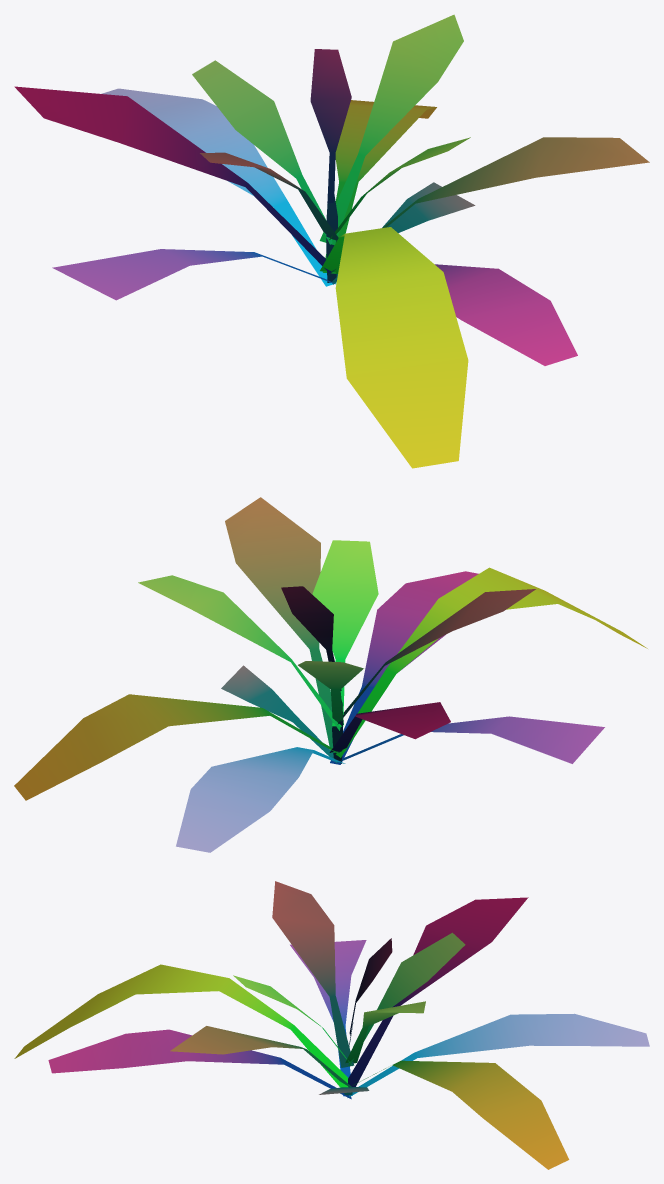
Rendered from Curbside_Weeds_ujzjfexja_Mid_ujzjfexja_VarI_LOD1.fbx.
The picture shows the model from 3 angles, top to bottom: view 1: azimuth 30°, elevation 25°; view 2: azimuth 150°, elevation 25°; view 3: azimuth 270°, elevation 25°; orthographic projection. The views are drawn at different scales.
Parts seen in each view (by area): view 1: _z7dp_VarI_LOD2; view 2: _z7dp_VarI_LOD2; view 3: _z7dp_VarI_LOD2.
Boxes of the visible parts, x1,y1,x2,y2 form: _z7dp_VarI_LOD2: (14, 14, 649, 468); _z7dp_VarI_LOD2: (14, 497, 647, 852); _z7dp_VarI_LOD2: (14, 881, 649, 1169).
Size of the model in its own units: 18.05 by 7.4 by 26.16.
